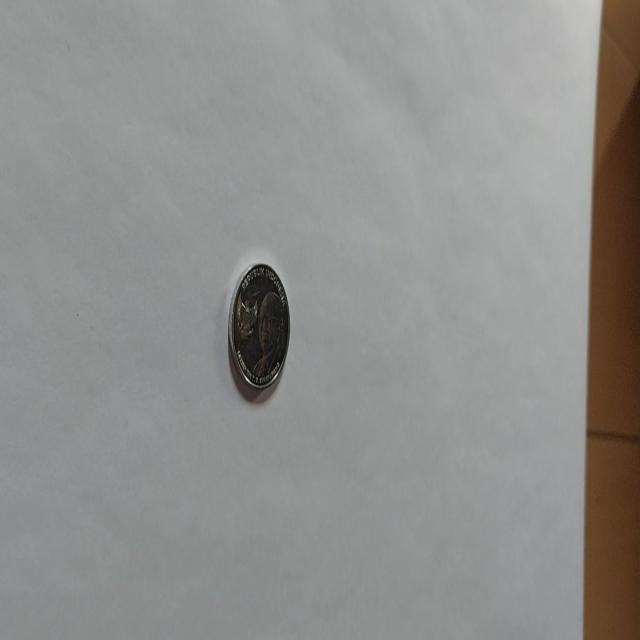lima ratus rupiah: (227, 261, 291, 395)
